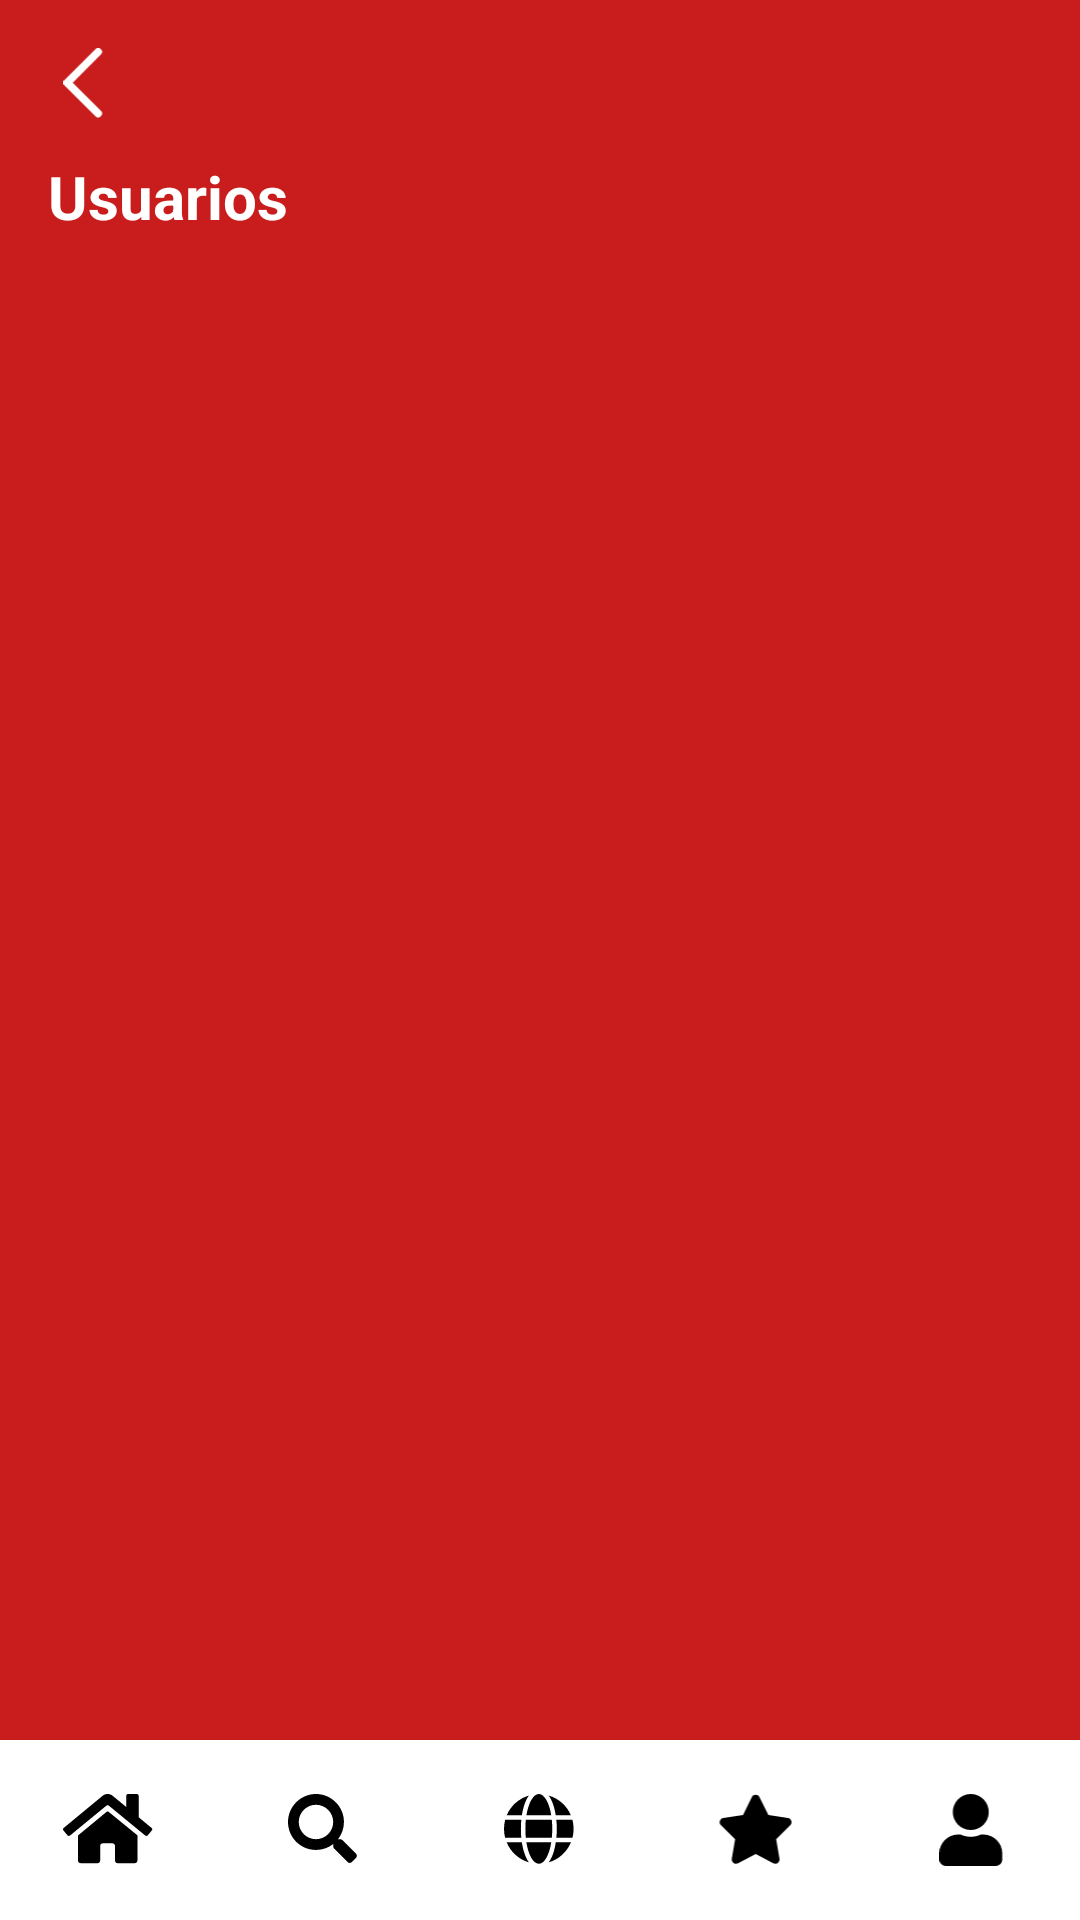

Icons on this 1080px×1920px Android screen, each with its box as (x1, y1, x2, y2):
arrow left: (63, 48, 103, 118)
globe: (504, 1794, 574, 1864)
home: (63, 1794, 153, 1864)
search: (288, 1794, 357, 1863)
star: (719, 1794, 792, 1864)
user: (939, 1794, 1003, 1866)
